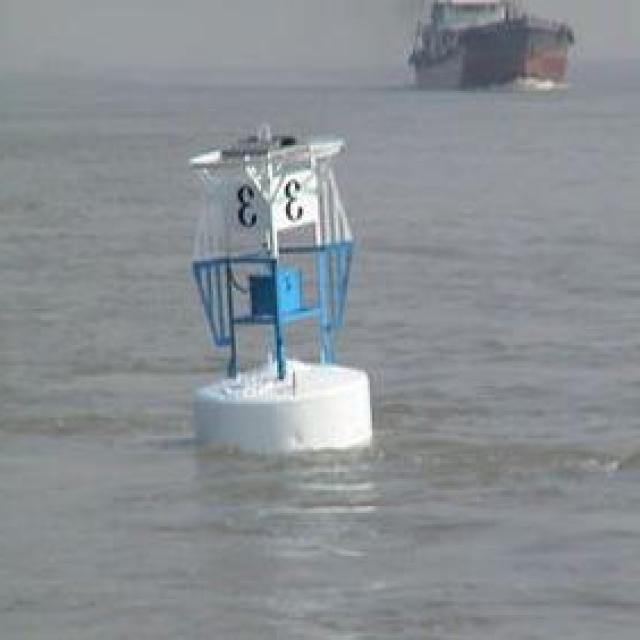cargoship: (402, 0, 583, 89)
